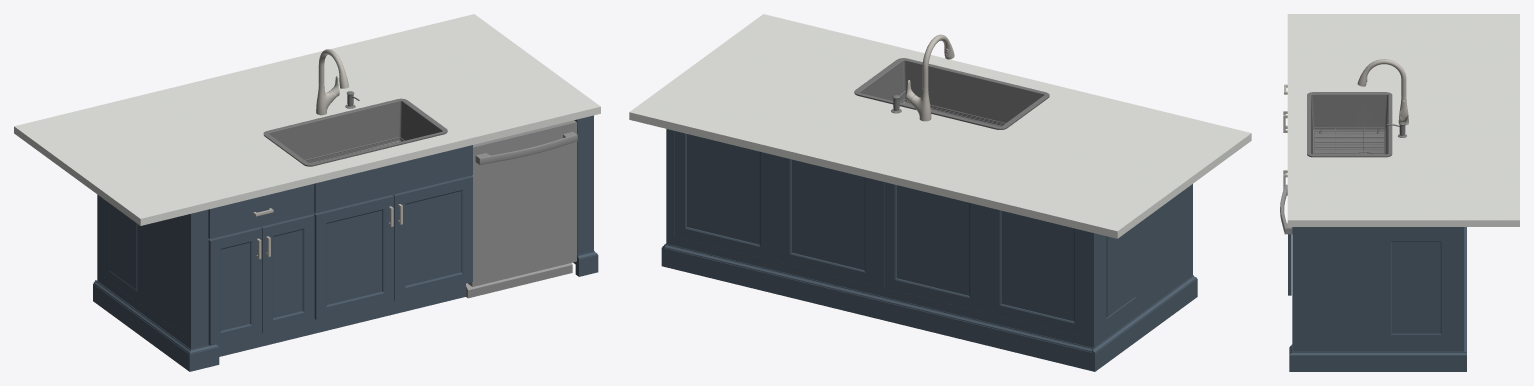
Rendered from 117 KITCHEN ISLAND WAINSCOATING V1GBL.glb.
The picture shows the model from 3 angles, left to right: view 1: azimuth 30°, elevation 25°; view 2: azimuth 150°, elevation 25°; view 3: azimuth 270°, elevation 25°; orthographic projection. The views are drawn at different scales.
Parts seen in each view (by area): view 1: Component#1, SRB36-5, PDT715SYVFS-6, B24-4, WP-PANEL-11, skpE5B6, TSC4-15, FBM-18, BEP3-R-7, BEP3-L-3, skp4136, WP-PANEL-10 (+1 smaller); view 2: Component#1, WP-PANEL-9, FBM-16, WP-PANEL-11, skpE5B6, FBM-18, skp4136; view 3: Component#1, WP-PANEL-10, skpE5B6, FBM-17, skp4136, WP-PANEL-9, FBM-16, SRB36-5, PDT715SYVFS-6.
Boxes of the visible parts, bbox=[...] form: Component#1: bbox=[14, 14, 600, 225]; SRB36-5: bbox=[313, 145, 472, 319]; PDT715SYVFS-6: bbox=[466, 120, 577, 298]; B24-4: bbox=[207, 184, 314, 345]; WP-PANEL-11: bbox=[99, 196, 194, 349]; skpE5B6: bbox=[263, 98, 447, 166]; TSC4-15: bbox=[216, 283, 465, 356]; FBM-18: bbox=[93, 280, 219, 371]; BEP3-R-7: bbox=[573, 116, 590, 275]; BEP3-L-3: bbox=[194, 210, 207, 348]; skp4136: bbox=[316, 49, 348, 115]; WP-PANEL-10: bbox=[590, 115, 593, 251]; Component#1: bbox=[629, 14, 1251, 238]; WP-PANEL-9: bbox=[666, 129, 1095, 347]; FBM-16: bbox=[664, 243, 1093, 370]; WP-PANEL-11: bbox=[1096, 184, 1192, 345]; skpE5B6: bbox=[854, 58, 1049, 129]; FBM-18: bbox=[1092, 275, 1197, 371]; skp4136: bbox=[906, 34, 954, 121]; Component#1: bbox=[1287, 14, 1519, 226]; WP-PANEL-10: bbox=[1292, 227, 1460, 351]; skpE5B6: bbox=[1307, 92, 1392, 157]; FBM-17: bbox=[1289, 344, 1466, 371]; skp4136: bbox=[1357, 59, 1408, 125]; WP-PANEL-9: bbox=[1460, 227, 1463, 351]; FBM-16: bbox=[1464, 227, 1466, 351]; SRB36-5: bbox=[1283, 170, 1291, 295]; PDT715SYVFS-6: bbox=[1280, 184, 1292, 234].
Bounding box in the file's own units: 2.65 × 1.3 × 1.3.
5 materials, 1 textured.
